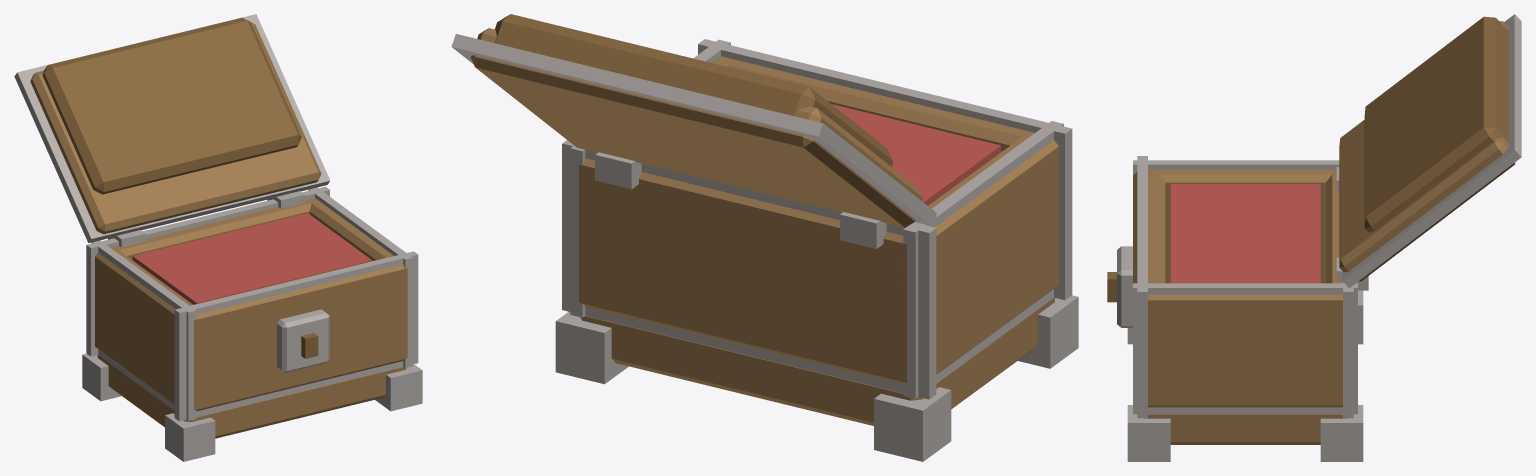
The model's file is TreasureChest.fbx.
3 views of the same model, side by side, from view 1: azimuth 30°, elevation 25°; view 2: azimuth 150°, elevation 25°; view 3: azimuth 270°, elevation 25° (orthographic). The views are drawn at different scales.
Parts seen in each view (by area): view 1: TreasureChest; view 2: TreasureChest; view 3: TreasureChest.
Part boxes in pixels (left/top/right/bottom): TreasureChest: left=14, top=14, right=422, bottom=461; TreasureChest: left=451, top=14, right=1078, bottom=461; TreasureChest: left=1107, top=14, right=1521, bottom=461.
Size of the model in its own units: 0.15 by 0.1658 by 0.1933.
